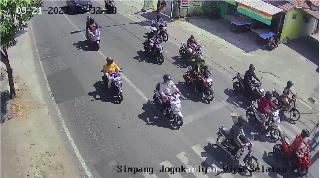motor: (156, 75, 182, 129), (184, 60, 216, 102), (270, 79, 300, 121), (100, 60, 124, 102), (238, 68, 264, 105), (81, 17, 102, 53), (184, 36, 206, 65), (142, 34, 164, 63), (152, 12, 172, 42)
